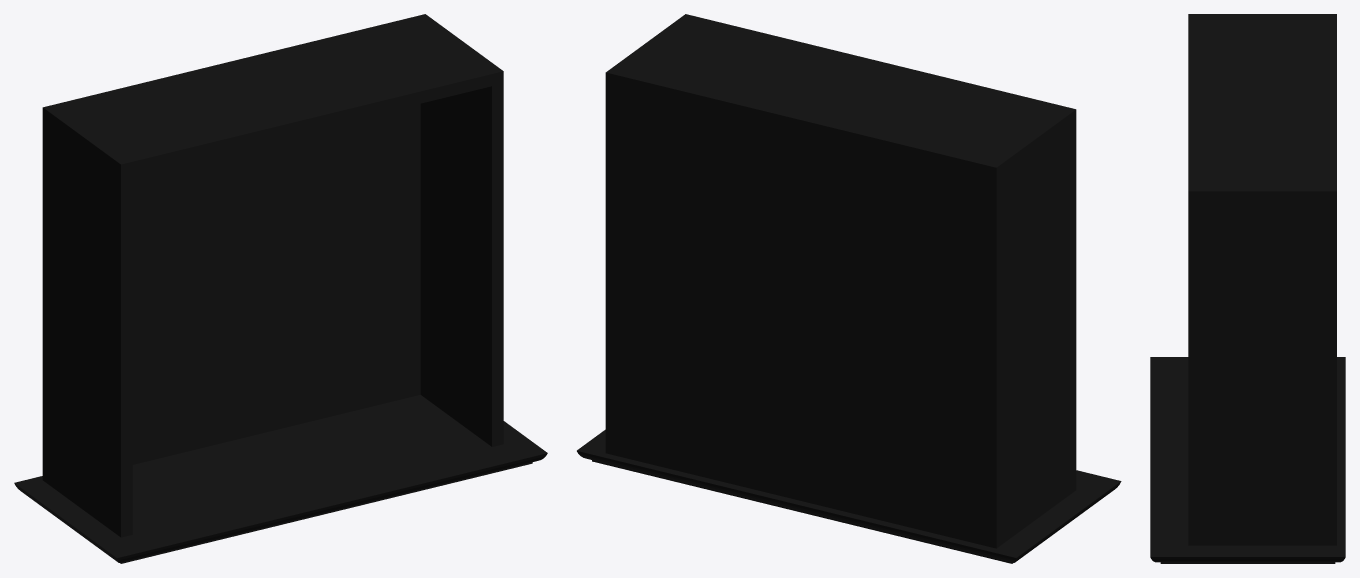
3 views of the same model, side by side, from view 1: azimuth 30°, elevation 25°; view 2: azimuth 150°, elevation 25°; view 3: azimuth 270°, elevation 25° (orthographic). The views are drawn at different scales.
Visible parts, largest first — view 1: Black.002; view 2: Black.002; view 3: Black.002.
Part boxes in pixels (box(x1,y1,x2,y2)): Black.002: box(14, 14, 547, 563); Black.002: box(577, 14, 1121, 563); Black.002: box(1150, 14, 1345, 563).
Size of the model in its own units: 0.4832 by 0.4128 by 0.2.
Materials: 1 (1 with a texture image).
